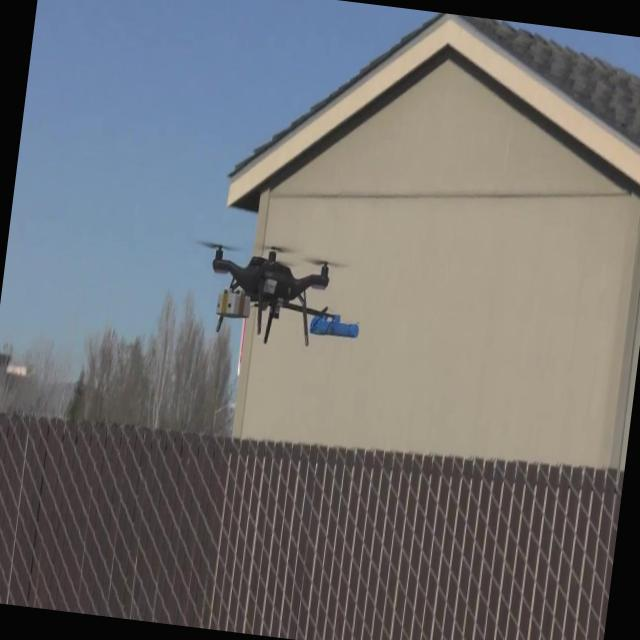drone: (182, 234, 368, 356)
